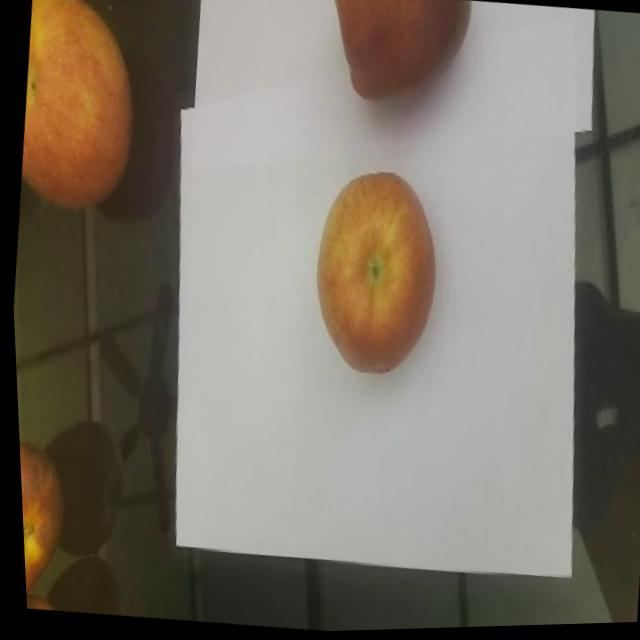Apple: (300, 166, 452, 389), (10, 0, 150, 216), (315, 0, 478, 120), (16, 444, 76, 607)
